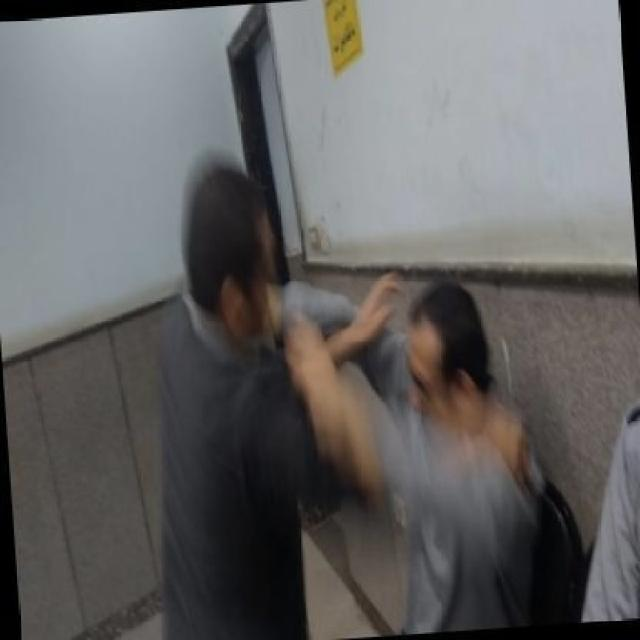fight: (122, 144, 631, 638)
